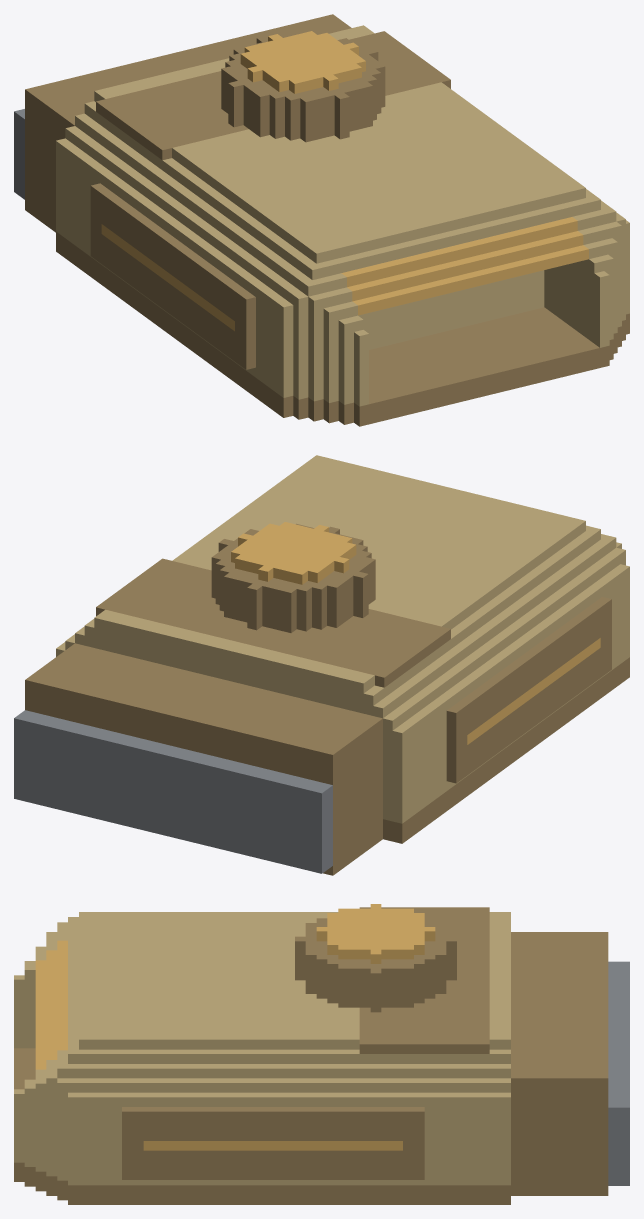
File: turret_main.glb
3 renders of one model, top to bottom at view 1: azimuth 30°, elevation 25°; view 2: azimuth 150°, elevation 25°; view 3: azimuth 270°, elevation 25°, orthographic. The views are drawn at different scales.
Size of the model in its own units: 38 by 20 by 57.
